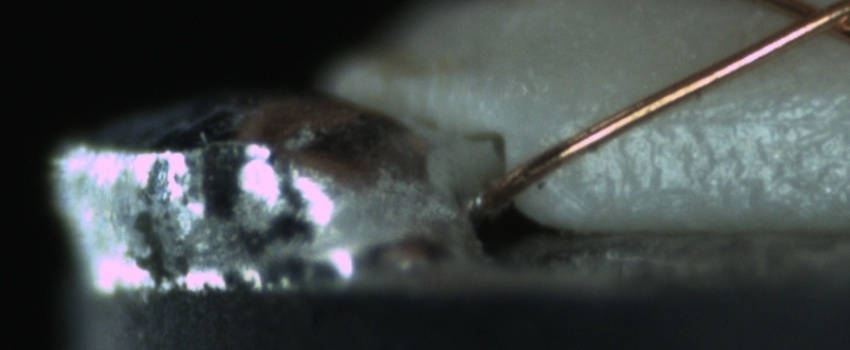CL: (770, 0, 849, 45)
DL: (629, 87, 850, 148)
